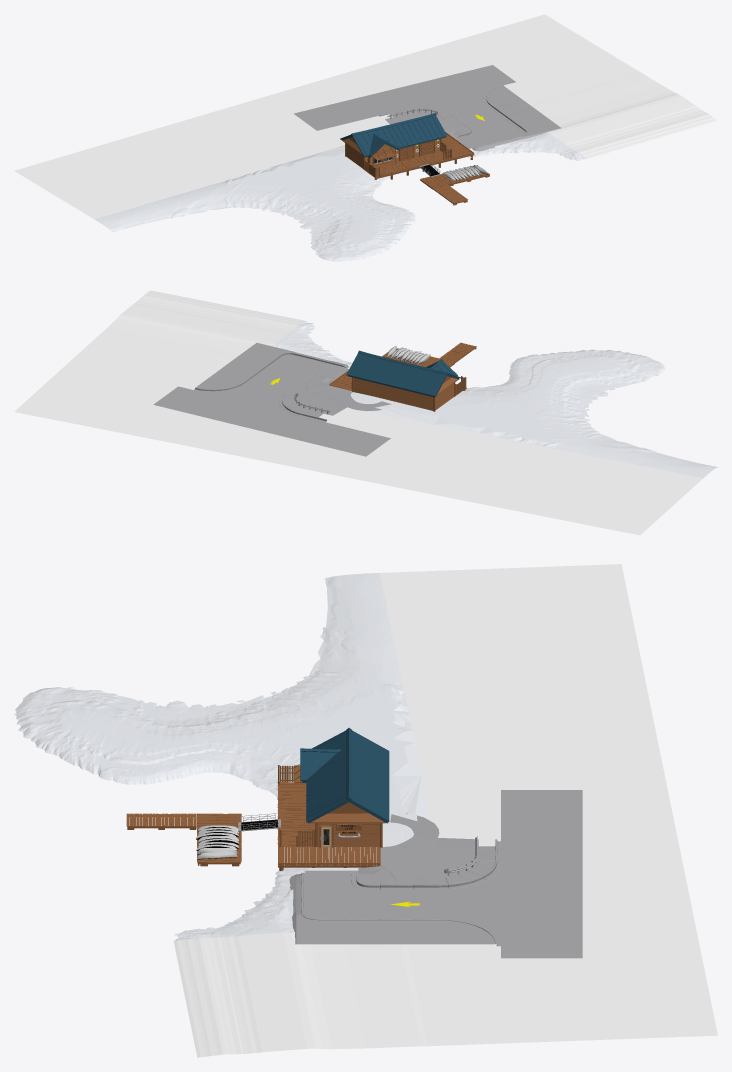
File: BoatHouse.fbx
3 renders of one model, top to bottom at view 1: azimuth 30°, elevation 25°; view 2: azimuth 150°, elevation 25°; view 3: azimuth 270°, elevation 25°, orthographic. The views are drawn at different scales.
Parts seen in each view (by area): view 1: SM_BoatHouse_Landscape_01.mo, SM_BoatHouse_Road_01.mo, SM_BoatHouse_01.mo, SM_BoatHouse_Sidewalk_01.mo, SM_BoatHouse_Docks_01.mo, SM_BoatHouse_Docks_02.mo, SM_BoatHouse_Canoe_01.mo; view 2: SM_BoatHouse_Landscape_01.mo, SM_BoatHouse_Road_01.mo, SM_BoatHouse_Sidewalk_01.mo, SM_BoatHouse_01.mo, SM_BoatHouse_Docks_02.mo, SM_BoatHouse_Canoe_01.mo; view 3: SM_BoatHouse_Landscape_01.mo, SM_BoatHouse_Road_01.mo, SM_BoatHouse_Sidewalk_01.mo, SM_BoatHouse_01.mo, SM_BoatHouse_Docks_01.mo, SM_BoatHouse_Docks_02.mo, SM_BoatHouse_Canoe_01.mo.
Boxes of the visible parts, left/top/right/bottom form: SM_BoatHouse_Landscape_01.mo: left=14, top=14, right=717, bottom=261; SM_BoatHouse_Road_01.mo: left=294, top=65, right=523, bottom=148; SM_BoatHouse_01.mo: left=340, top=113, right=446, bottom=169; SM_BoatHouse_Sidewalk_01.mo: left=378, top=85, right=561, bottom=151; SM_BoatHouse_Docks_01.mo: left=365, top=132, right=474, bottom=179; SM_BoatHouse_Docks_02.mo: left=420, top=165, right=489, bottom=205; SM_BoatHouse_Canoe_01.mo: left=443, top=165, right=487, bottom=180; SM_BoatHouse_Landscape_01.mo: left=14, top=290, right=717, bottom=535; SM_BoatHouse_Road_01.mo: left=153, top=355, right=390, bottom=456; SM_BoatHouse_Sidewalk_01.mo: left=194, top=342, right=391, bottom=422; SM_BoatHouse_01.mo: left=346, top=350, right=460, bottom=411; SM_BoatHouse_Docks_02.mo: left=382, top=342, right=476, bottom=367; SM_BoatHouse_Canoe_01.mo: left=387, top=346, right=430, bottom=363; SM_BoatHouse_Landscape_01.mo: left=14, top=564, right=717, bottom=1057; SM_BoatHouse_Road_01.mo: left=305, top=790, right=582, bottom=958; SM_BoatHouse_Sidewalk_01.mo: left=289, top=813, right=502, bottom=946; SM_BoatHouse_01.mo: left=294, top=728, right=389, bottom=847; SM_BoatHouse_Docks_01.mo: left=277, top=782, right=380, bottom=870; SM_BoatHouse_Docks_02.mo: left=126, top=813, right=241, bottom=866; SM_BoatHouse_Canoe_01.mo: left=196, top=825, right=238, bottom=859.
Size of the model in its own units: 10397 by 622 by 6310.
